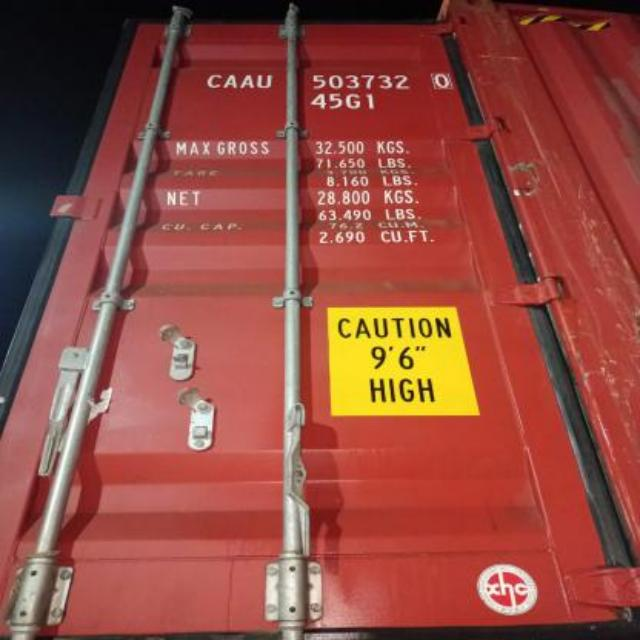0: (427, 72, 453, 90), (328, 67, 342, 91)
2: (390, 63, 410, 95)
3: (344, 70, 360, 92), (378, 67, 390, 93)
5: (310, 67, 326, 91)
7: (360, 68, 376, 92)
A: (237, 63, 253, 93), (222, 68, 238, 94)
C: (208, 66, 222, 92)
U: (253, 66, 271, 94)
